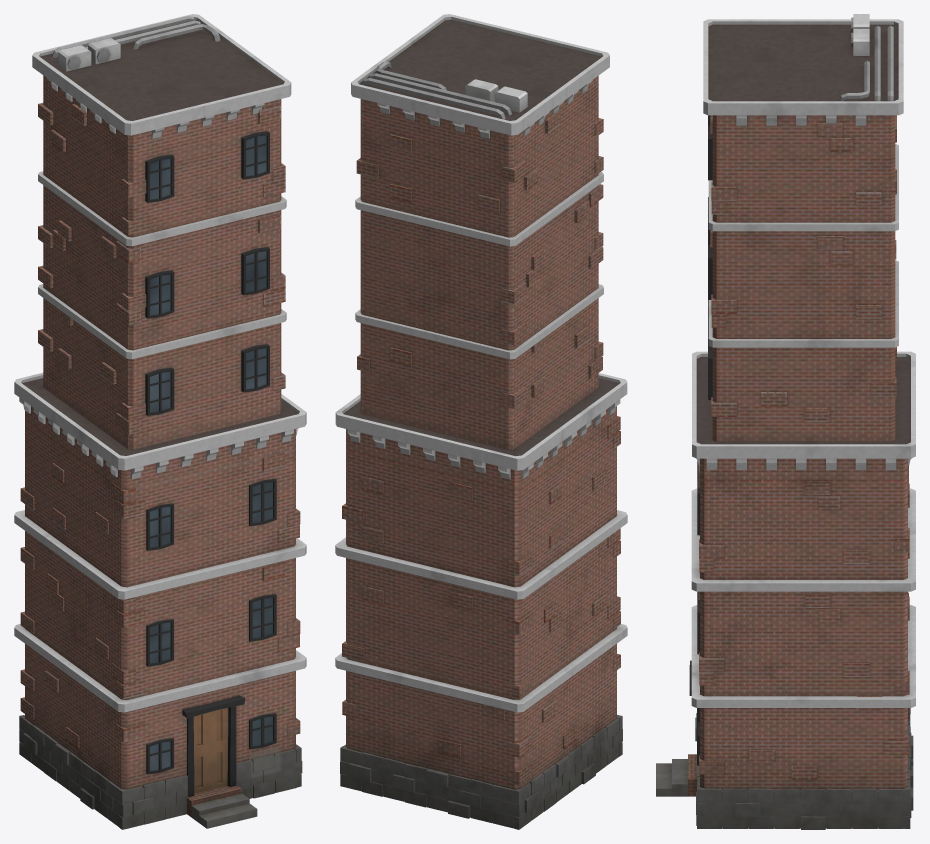
The model's file is 6Story_Stack.glb.
3 views of the same model, side by side, from view 1: azimuth 30°, elevation 25°; view 2: azimuth 150°, elevation 25°; view 3: azimuth 270°, elevation 25° (orthographic). The views are drawn at different scales.
Parts seen in each view (by area): view 1: 6Story_Stack_medium; view 2: 6Story_Stack_medium; view 3: 6Story_Stack_medium.
Part boxes in pixels (x1,y1,x2,y2): 6Story_Stack_medium: [14, 14, 306, 829]; 6Story_Stack_medium: [335, 14, 627, 829]; 6Story_Stack_medium: [656, 14, 915, 829].
Bounding box in the file's own units: 2.16 × 7.8 × 2.5.
Materials: 2 (2 with a texture image).
